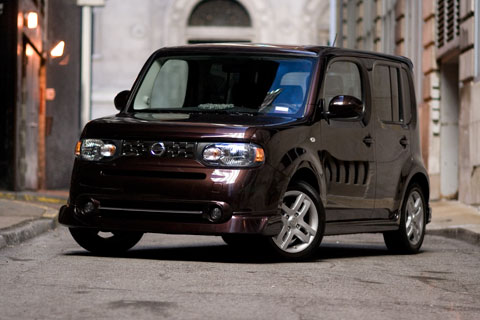back_view: (7, 62, 222, 170)
backlight: (93, 62, 216, 100)
side_glass: (283, 4, 426, 71)
